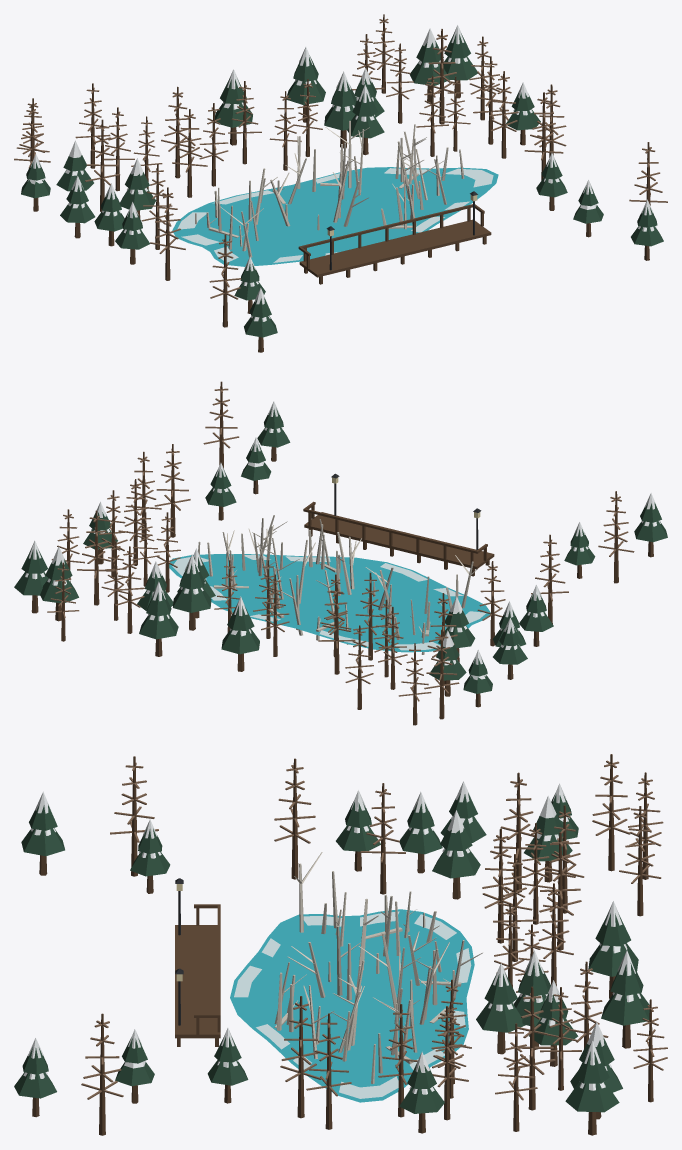
The model's file is blue-pond.glb.
3 views of the same model, one above another, from view 1: azimuth 30°, elevation 25°; view 2: azimuth 150°, elevation 25°; view 3: azimuth 270°, elevation 25° (orthographic). The views are drawn at different scales.
Parts seen in each view (by area): view 1: bluepond_fir, bluepond_water, bluepond_wood, bluepond_larch, bluepond_deadwood, bluepond_snow, bluepond_ice; view 2: bluepond_fir, bluepond_water, bluepond_wood, bluepond_larch, bluepond_deadwood, bluepond_snow, bluepond_ice; view 3: bluepond_water, bluepond_fir, bluepond_wood, bluepond_larch, bluepond_deadwood, bluepond_snow, bluepond_ice.
Part boxes in pixels (x1,y1,x2,y2): bluepond_fir: [21, 33, 663, 337]; bluepond_water: [172, 167, 498, 266]; bluepond_wood: [30, 14, 650, 352]; bluepond_larch: [14, 18, 667, 299]; bluepond_deadwood: [195, 121, 464, 257]; bluepond_snow: [27, 25, 656, 321]; bluepond_ice: [177, 168, 493, 262]; bluepond_fir: [14, 408, 667, 693]; bluepond_water: [169, 554, 490, 652]; bluepond_wood: [31, 381, 653, 725]; bluepond_larch: [47, 386, 634, 701]; bluepond_deadwood: [198, 515, 477, 654]; bluepond_snow: [25, 401, 660, 679]; bluepond_ice: [172, 555, 486, 650]; bluepond_water: [230, 909, 474, 1102]; bluepond_fir: [14, 793, 649, 1113]; bluepond_wood: [32, 754, 653, 1135]; bluepond_larch: [81, 760, 667, 1100]; bluepond_deadwood: [274, 852, 483, 1083]; bluepond_snow: [23, 781, 640, 1094]; bluepond_ice: [234, 911, 471, 1098].
Bounding box in the file's own units: 18.19 × 3.97 × 17.13.
